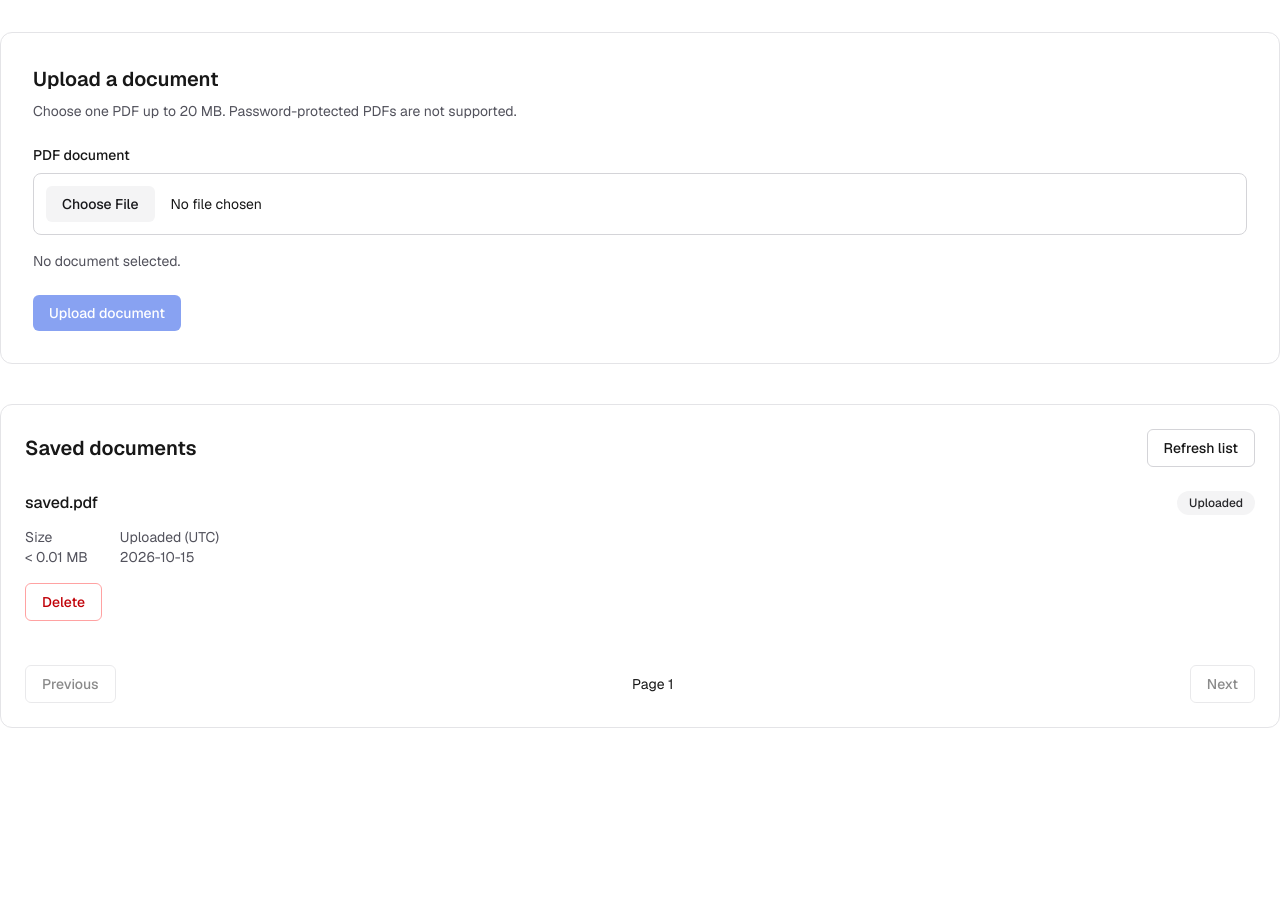
Test: keeps the document and shows an error when deletion fails
The image size is (1280, 900).
Click the button with aria-label "Delete saved.pdf" at (64, 602), box [25,583,102,621]
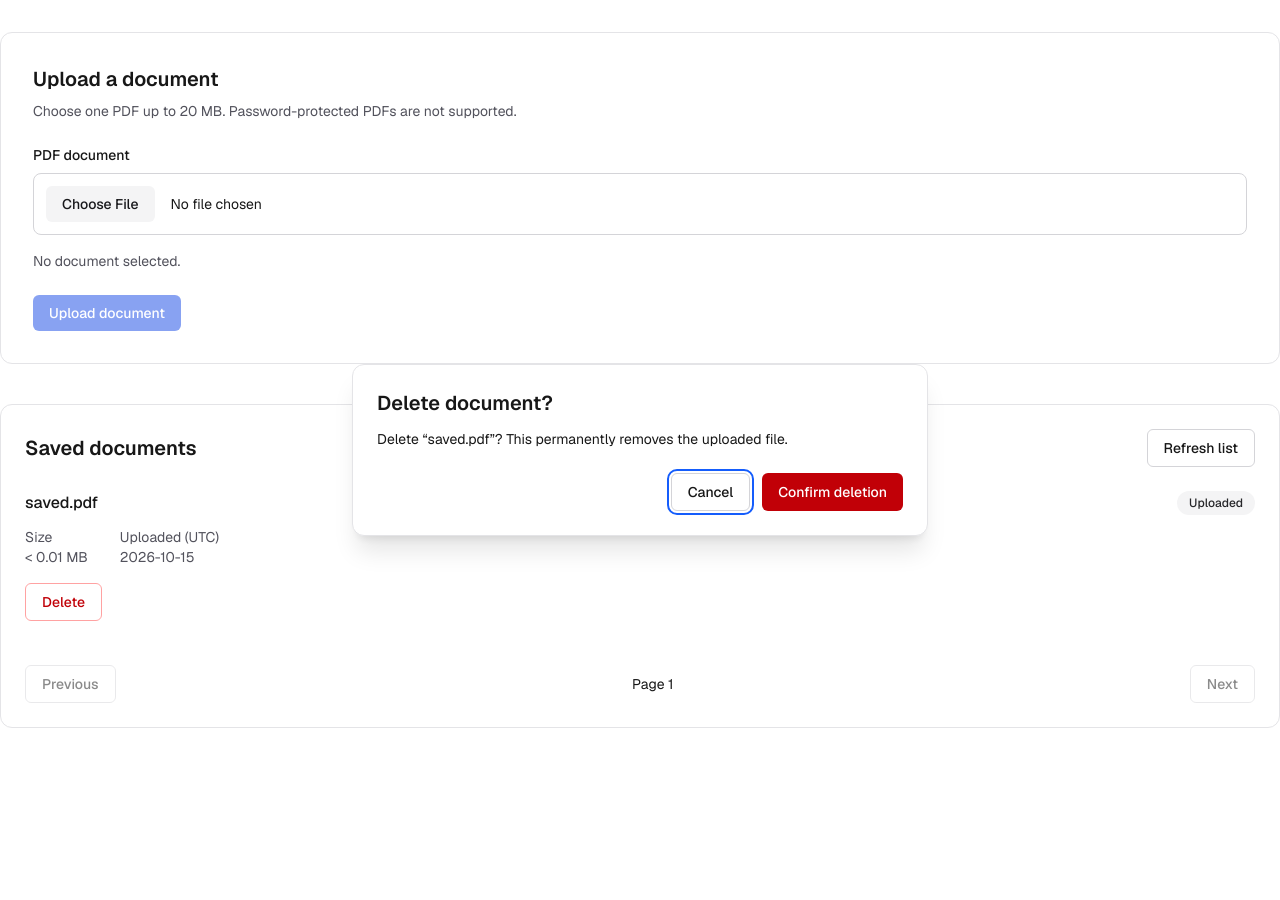
Click the button "Confirm deletion" at (833, 492), box [762,473,903,511]
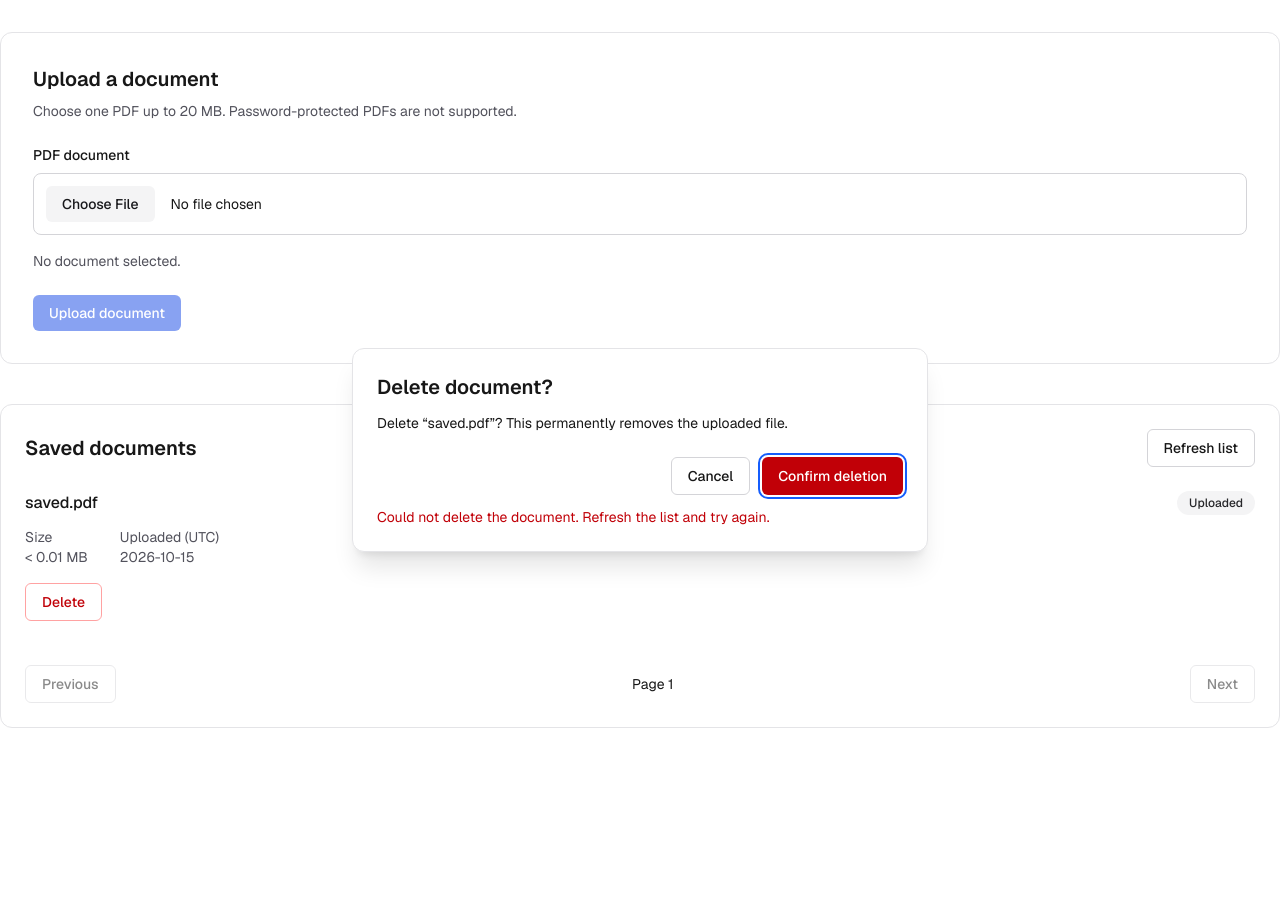
Check: the heading "saved.pdf" is shown, box [25,491,98,515]
Check: the button "Confirm deletion" is enabled, box [762,457,903,495]
Check: the message "Could not delete the document. Refresh the list and try again." is shown, box [377,508,770,526]
